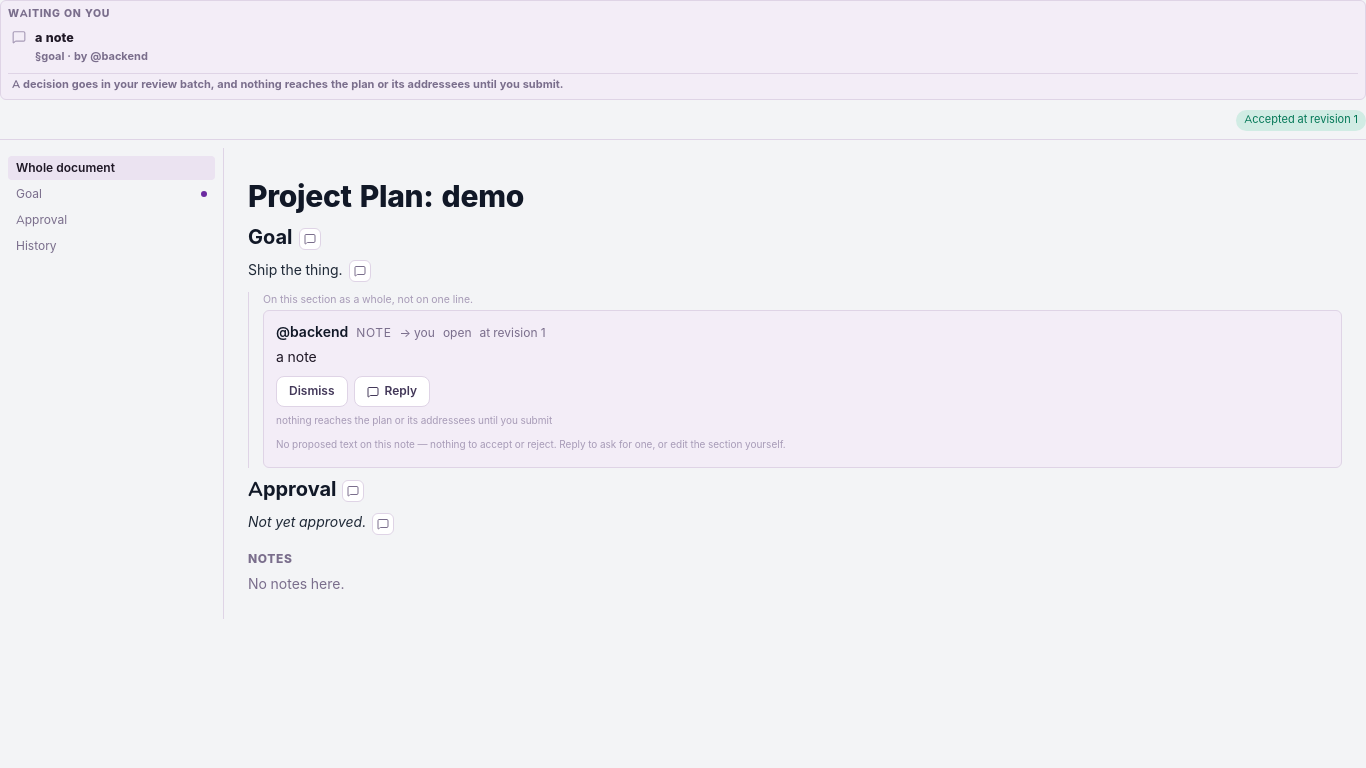
it: AC-2.20 — the strip does not ride the batch, and does not write outside it either › renders beside a pending tray without touching it — it has no write of its own
Expected: the element with test id "plan-acceptance" is shown, [0, 110, 1365, 140]
# A real, pending batch sitting underneath.
Click the button "Dismiss" at (312, 392), box [276, 376, 348, 407]
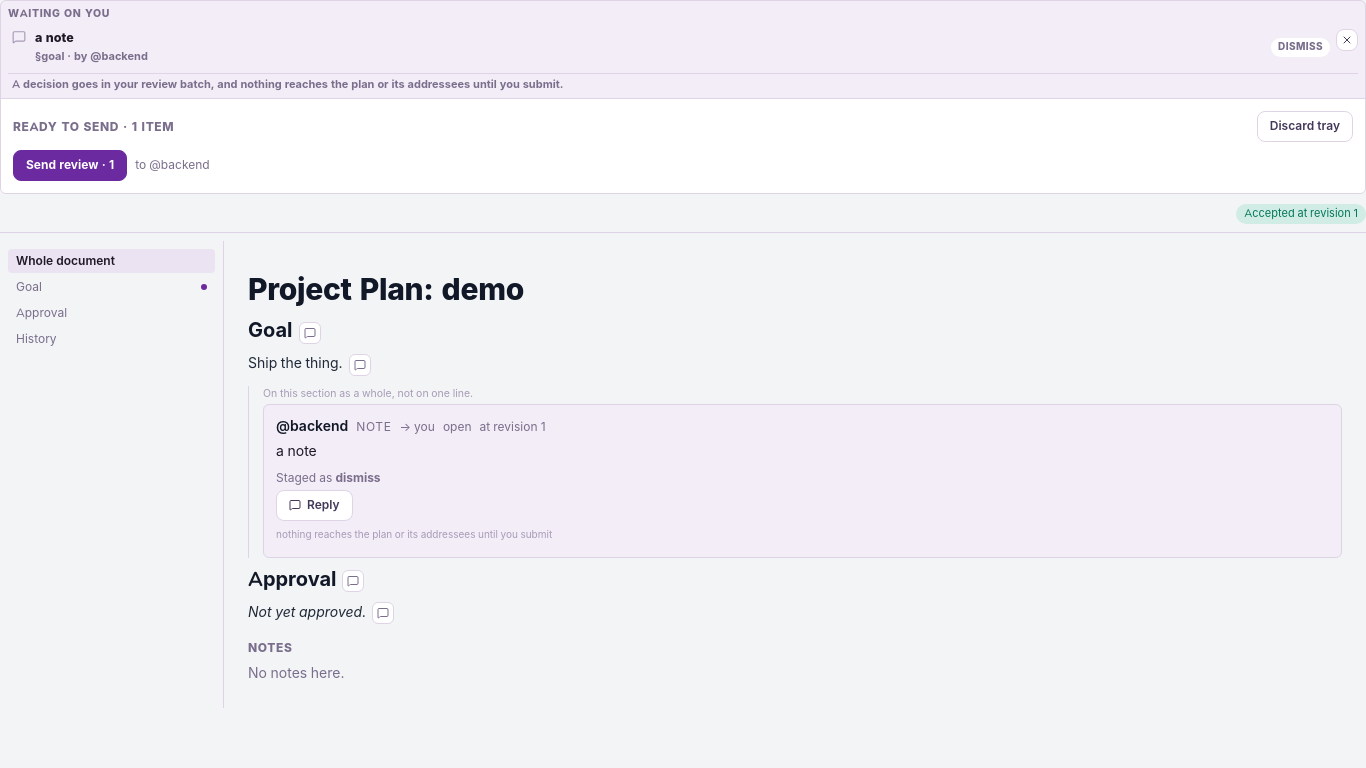
Expected: the text "open" is shown, [443, 419, 472, 435]
Result: the element with test id "plan-tray" is shown at [1, 98, 1365, 193]
